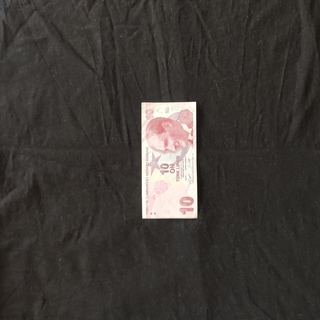10TLFront: (139, 100, 199, 219)
